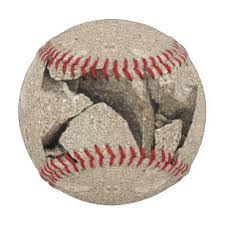stone: (9, 13, 213, 208)
